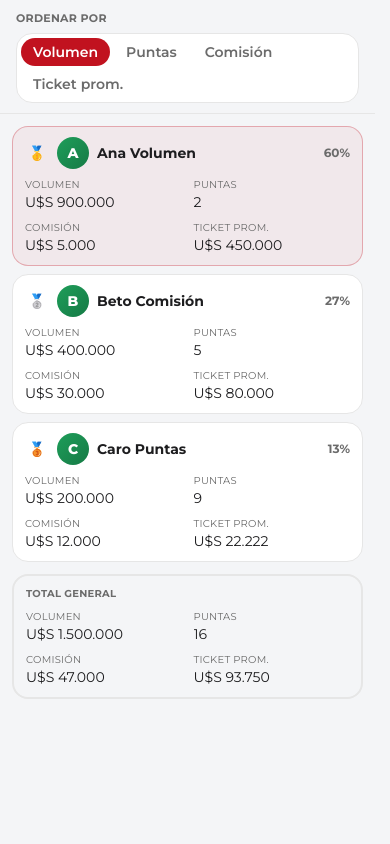
it: VendedorTotalesTable — el peso sigue al criterio › la columna cambia de nombre cuando deja de ser una parte de un total
Click the button "Ticket prom." at (78, 84), box [21,70,135,98]
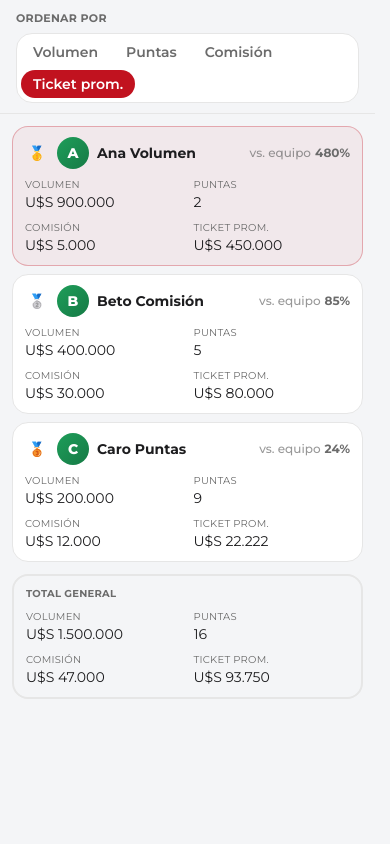
Expected: the 1st text "vs. equipo" is shown, [250,144,311,160]
